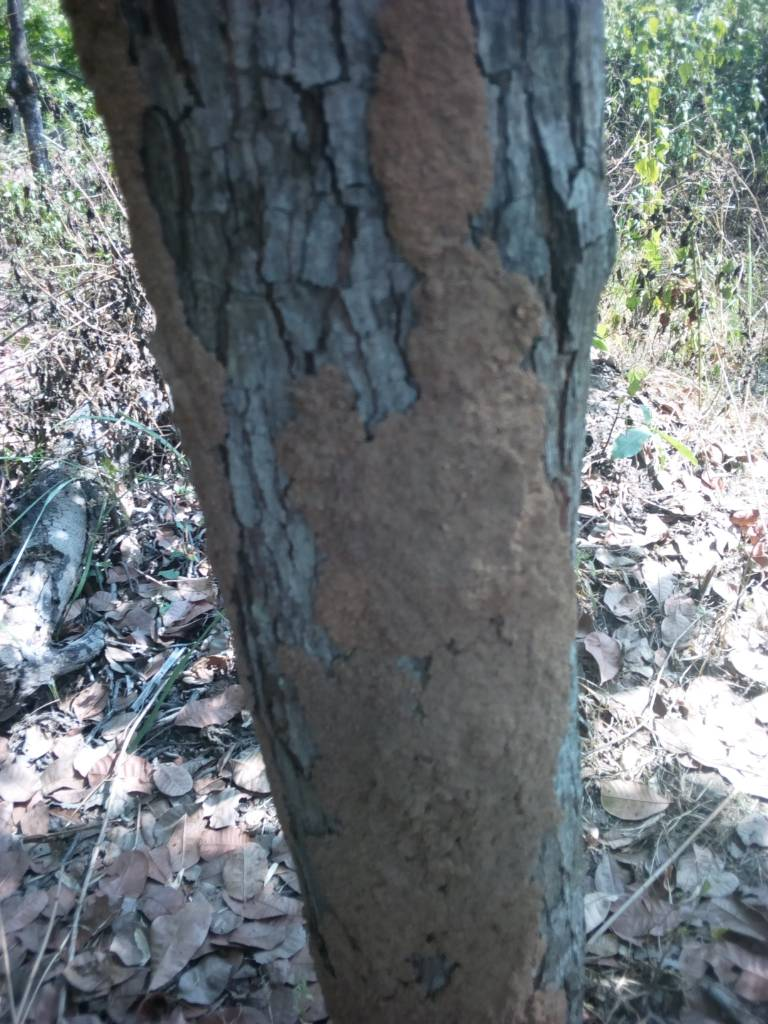Termites: (305, 336, 571, 1022), (369, 3, 543, 333)
